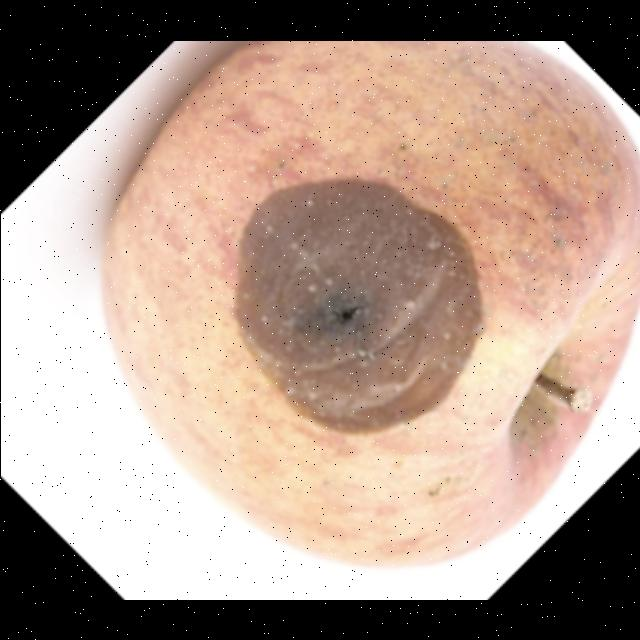Apel Tidak Segar: (102, 41, 640, 561)
